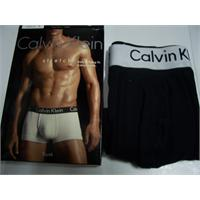mutande: (104, 40, 199, 167), (21, 102, 82, 143)
